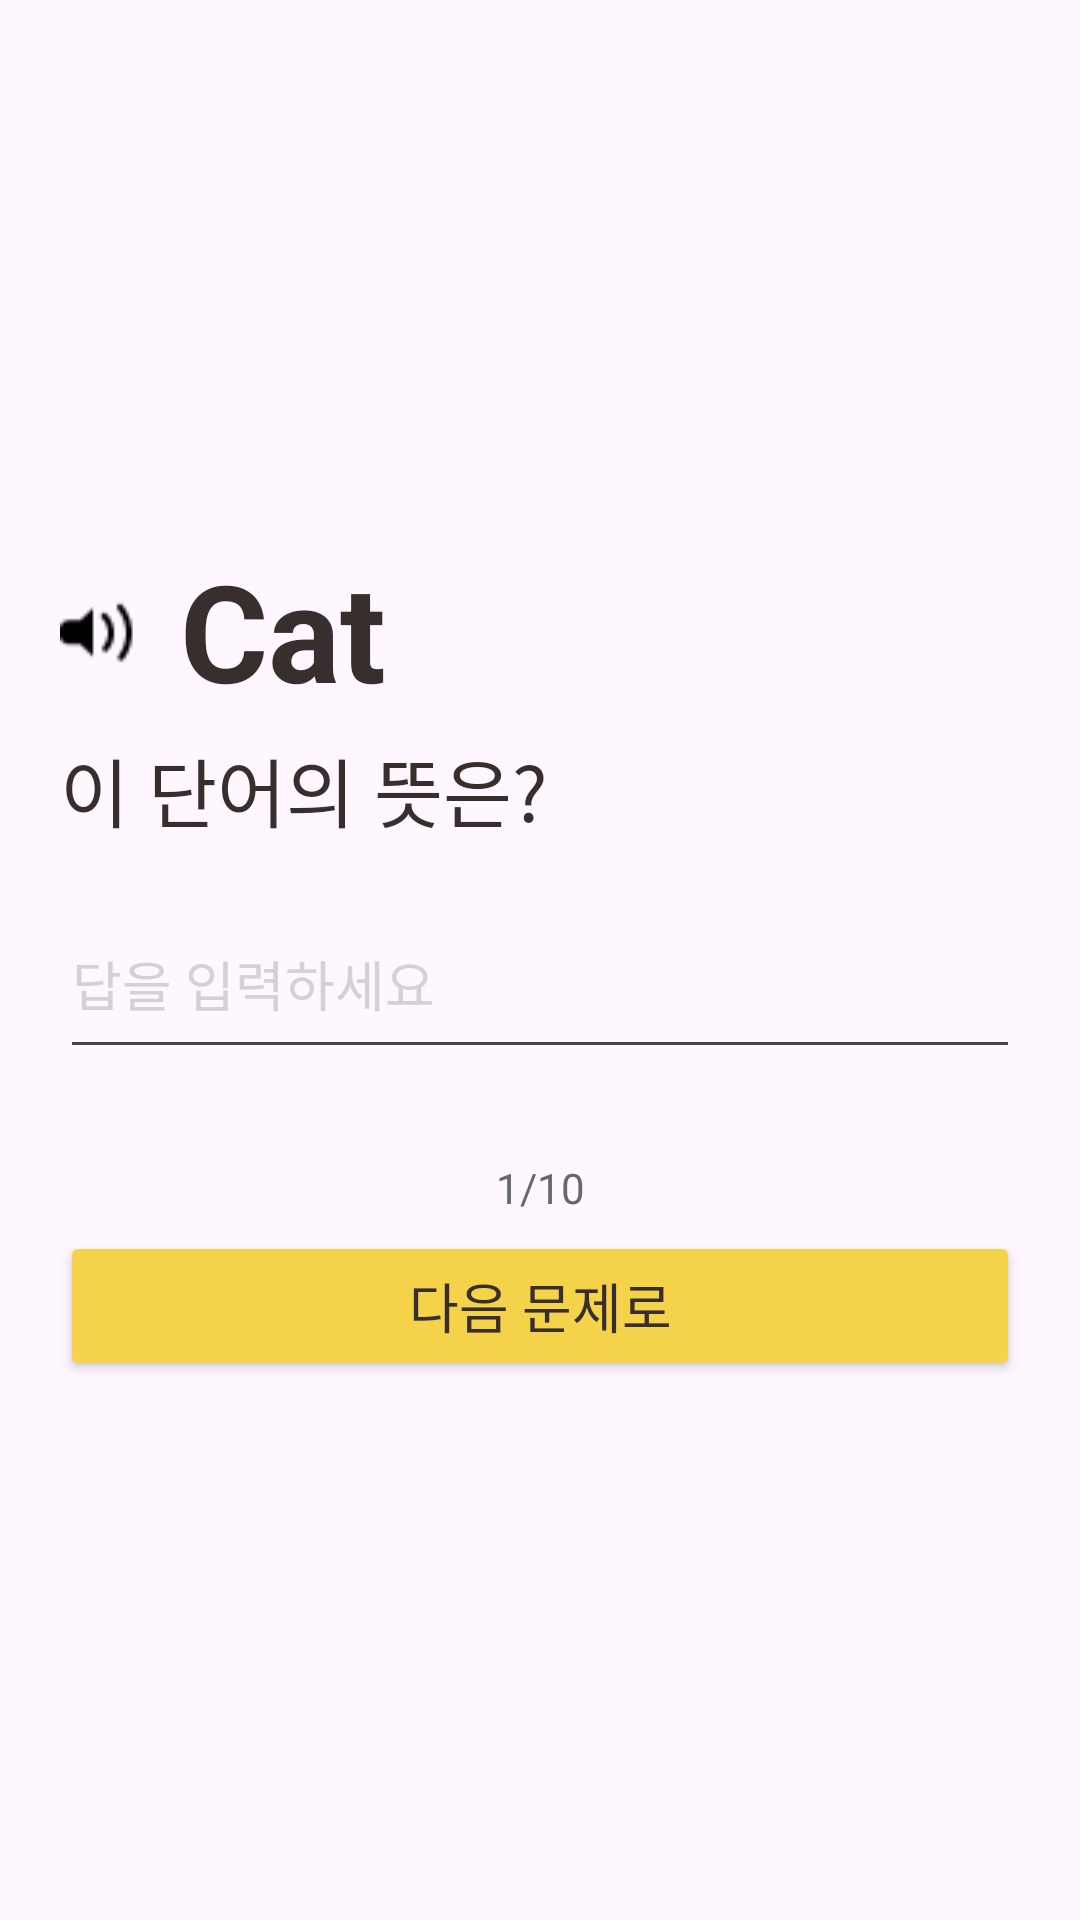

Where icons sit on this 1080 x 1920 app screen, as (x1, y1, x2, y2):
voice: (60, 603, 133, 663)
